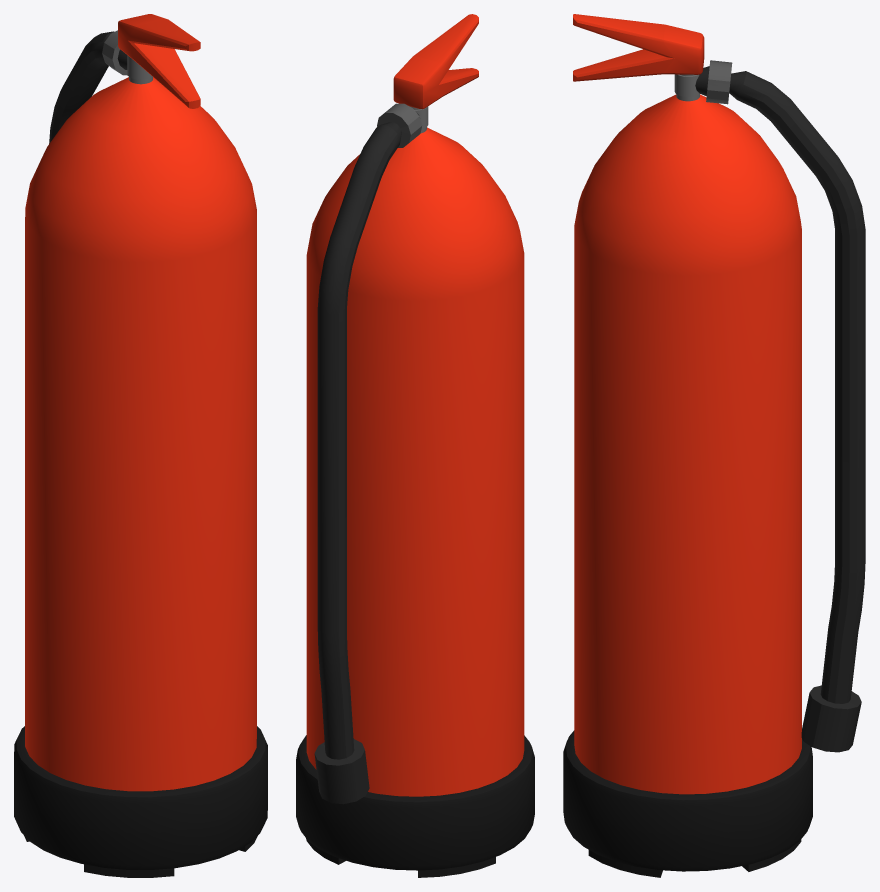
The model's file is fire-extinguisher.glb.
3 renders of one model, left to right at view 1: azimuth 30°, elevation 25°; view 2: azimuth 150°, elevation 25°; view 3: azimuth 270°, elevation 25°, orthographic. The views are drawn at different scales.
Visible parts, largest first — view 1: Object_57; view 2: Object_57; view 3: Object_57.
Part boxes in pixels (x1,y1,x2,y2): Object_57: (14,14,267,877); Object_57: (296,14,534,877); Object_57: (563,14,865,877).
Bounding box in the file's own units: 0.218 × 0.7832 × 0.264.
Materials: 1 (1 with a texture image).
